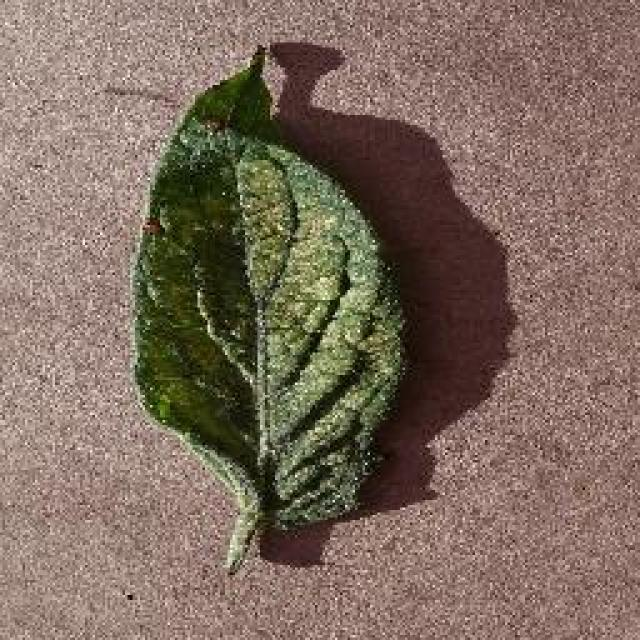Tomato mosaic virus leaf: (124, 39, 411, 534)
